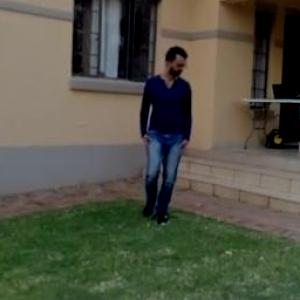follow: (140, 40, 194, 226)
